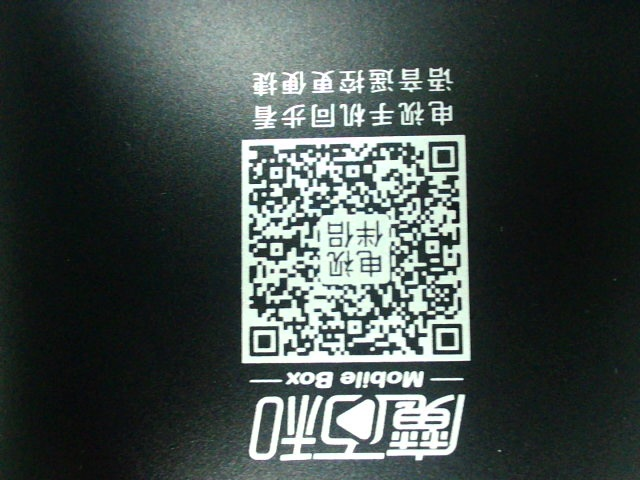AZ_MobileBox: (224, 63, 488, 461)
